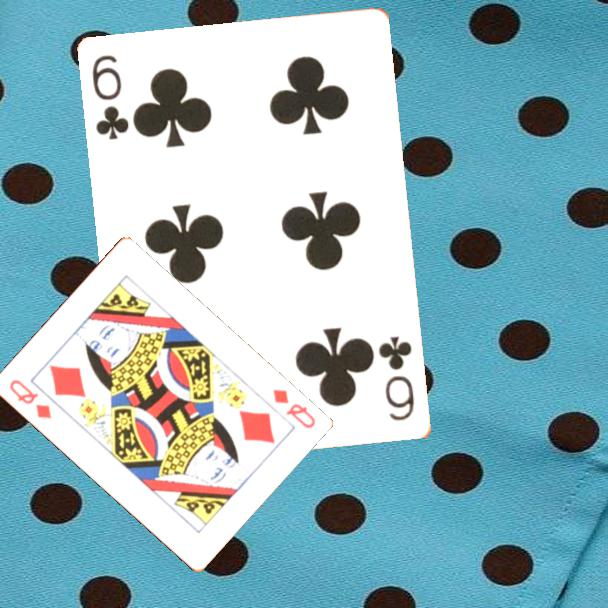c06: (89, 52, 132, 143), (376, 333, 418, 424)
d12: (269, 385, 318, 432), (6, 376, 54, 422)
